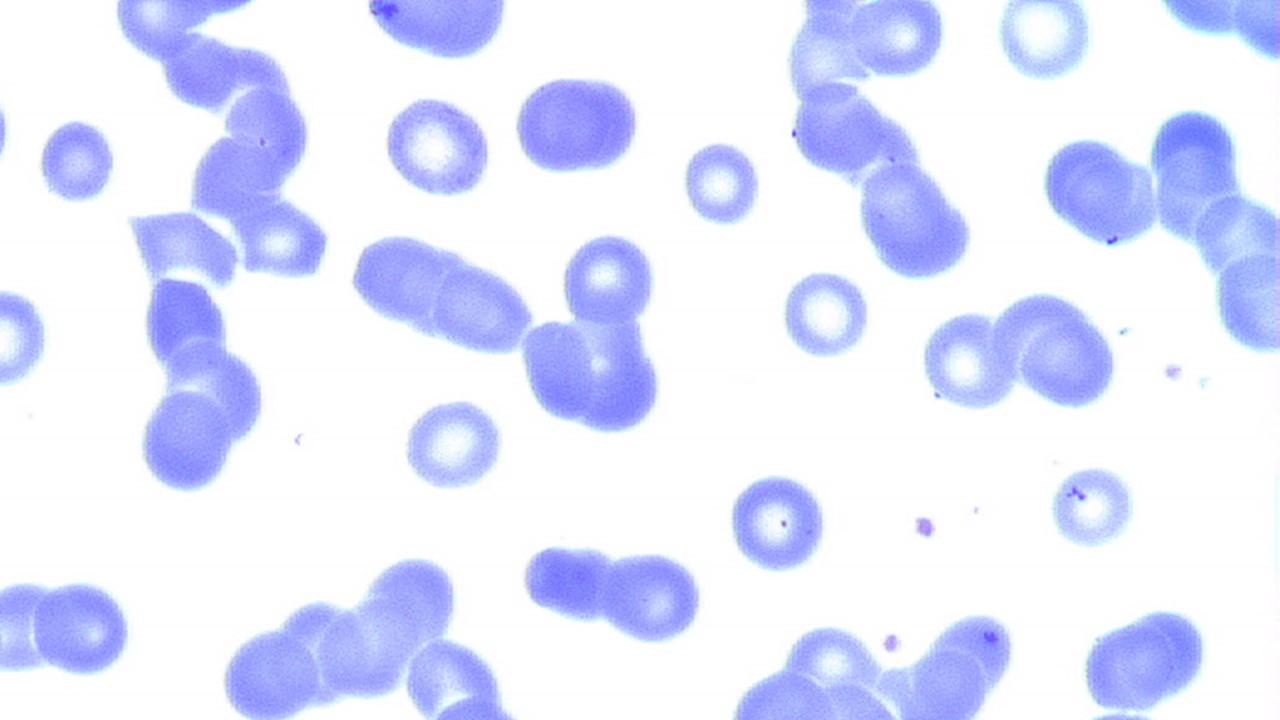Platelets: (678, 133, 770, 232), (34, 113, 120, 206), (0, 96, 14, 168), (910, 514, 942, 542), (879, 627, 905, 658), (1158, 358, 1186, 385)
RBC: (430, 254, 538, 362), (598, 542, 704, 652), (558, 226, 663, 328), (988, 0, 1098, 86)
WBC: (779, 4, 986, 301), (203, 541, 542, 720), (709, 610, 1038, 720), (512, 280, 672, 442), (128, 342, 276, 499), (344, 218, 486, 354), (1072, 601, 1216, 717), (854, 157, 982, 286), (1005, 283, 1129, 416), (1147, 96, 1255, 248), (1191, 184, 1280, 364), (507, 66, 646, 180), (1035, 128, 1161, 251), (912, 291, 1027, 421), (380, 89, 498, 202), (27, 572, 142, 684), (903, 610, 1023, 716), (723, 466, 833, 578), (556, 224, 666, 332), (398, 390, 510, 496), (598, 545, 708, 648), (0, 566, 90, 688), (357, 0, 518, 68), (433, 256, 537, 360), (1136, 0, 1280, 73), (775, 263, 876, 364), (1042, 458, 1142, 554), (990, 1, 1100, 87), (514, 536, 614, 628), (677, 132, 765, 233), (35, 112, 120, 209), (1, 279, 53, 395)
